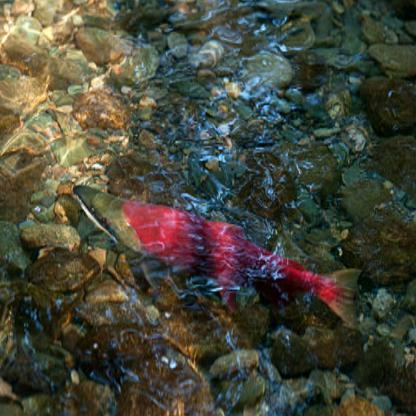sockeye: (70, 170, 361, 342)
